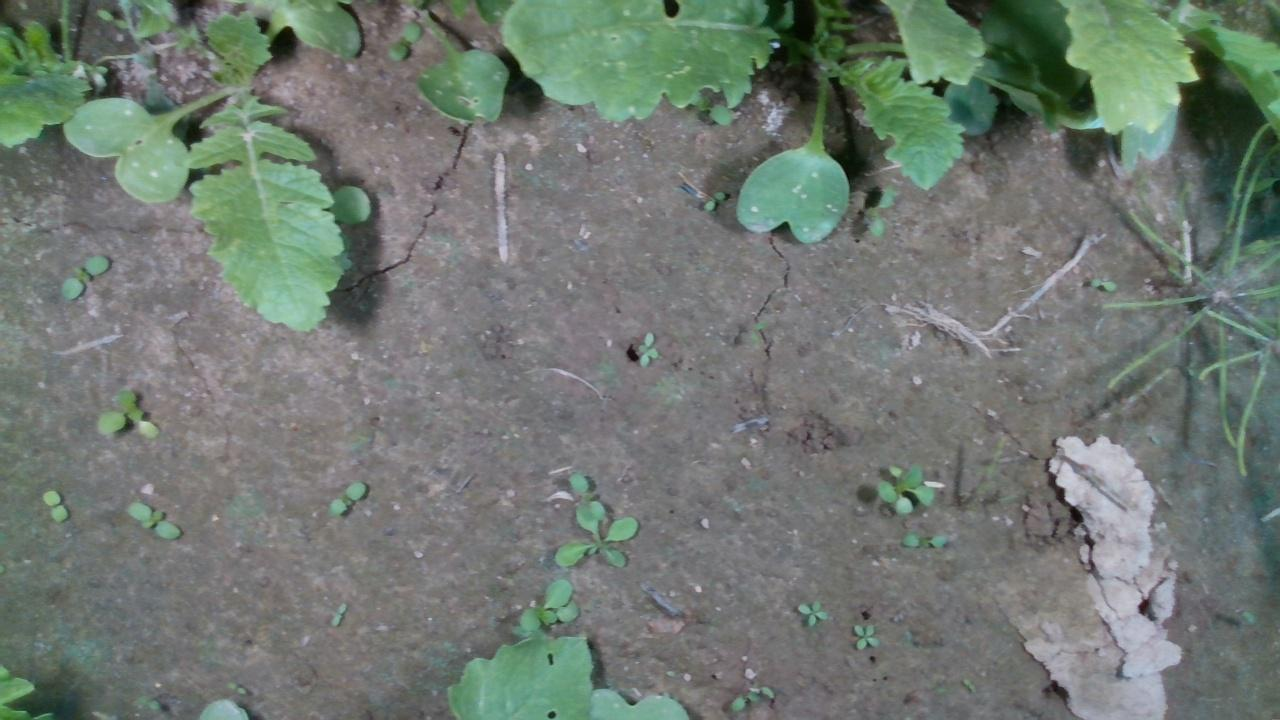weed: (58, 253, 109, 301), (125, 500, 181, 539), (326, 480, 366, 514), (39, 488, 68, 522), (794, 597, 828, 625), (635, 329, 658, 368), (850, 622, 879, 651), (898, 531, 948, 547), (327, 599, 347, 629), (700, 189, 725, 212), (1088, 276, 1117, 291), (224, 681, 247, 694)
